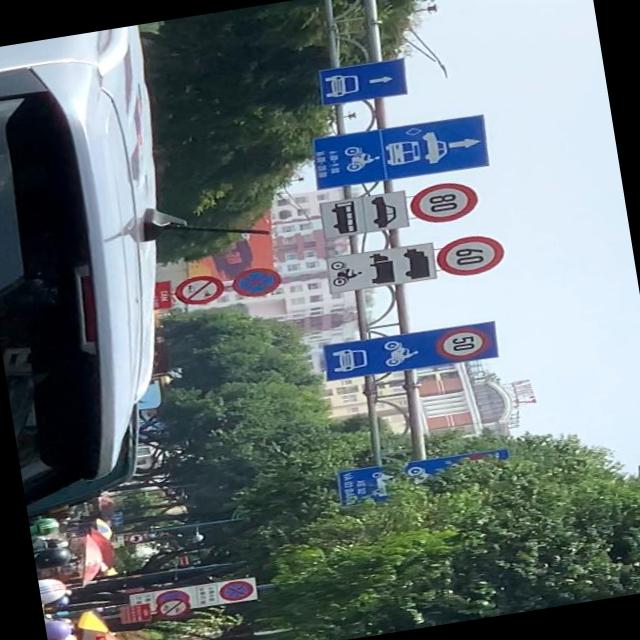P-127: (408, 178, 481, 228), (432, 233, 508, 280)
P-130: (231, 265, 283, 300)
